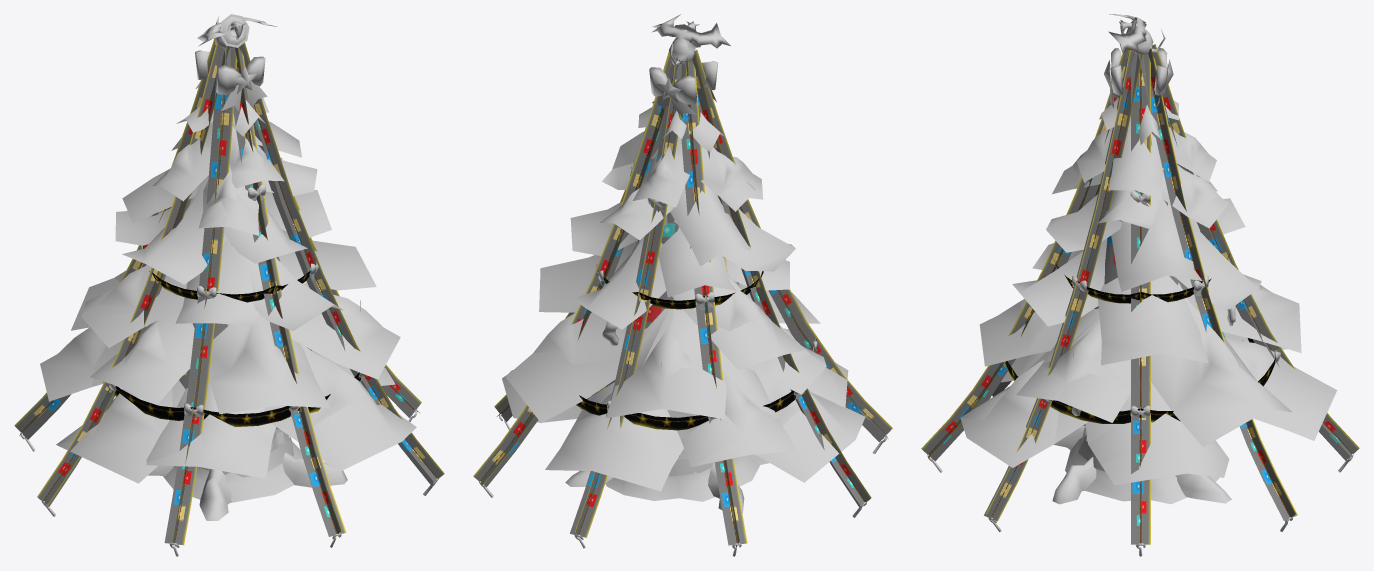
The model's file is ChristmasTree.FBX.
The picture shows the model from 3 angles, left to right: view 1: azimuth 30°, elevation 25°; view 2: azimuth 150°, elevation 25°; view 3: azimuth 270°, elevation 25°; orthographic projection. The views are drawn at different scales.
Parts seen in each view (by area): view 1: ChristmasTree, ChristmasTree_Star; view 2: ChristmasTree, ChristmasTree_Star; view 3: ChristmasTree, ChristmasTree_Star.
Boxes of the visible parts, x1,y1,x2,y2 form: ChristmasTree: (20,14,438,556); ChristmasTree_Star: (14,38,444,547); ChristmasTree: (479,14,887,556); ChristmasTree_Star: (473,50,892,547); ChristmasTree: (927,14,1353,556); ChristmasTree_Star: (921,44,1359,544).
Size of the model in its own units: 633 by 633 by 723.
